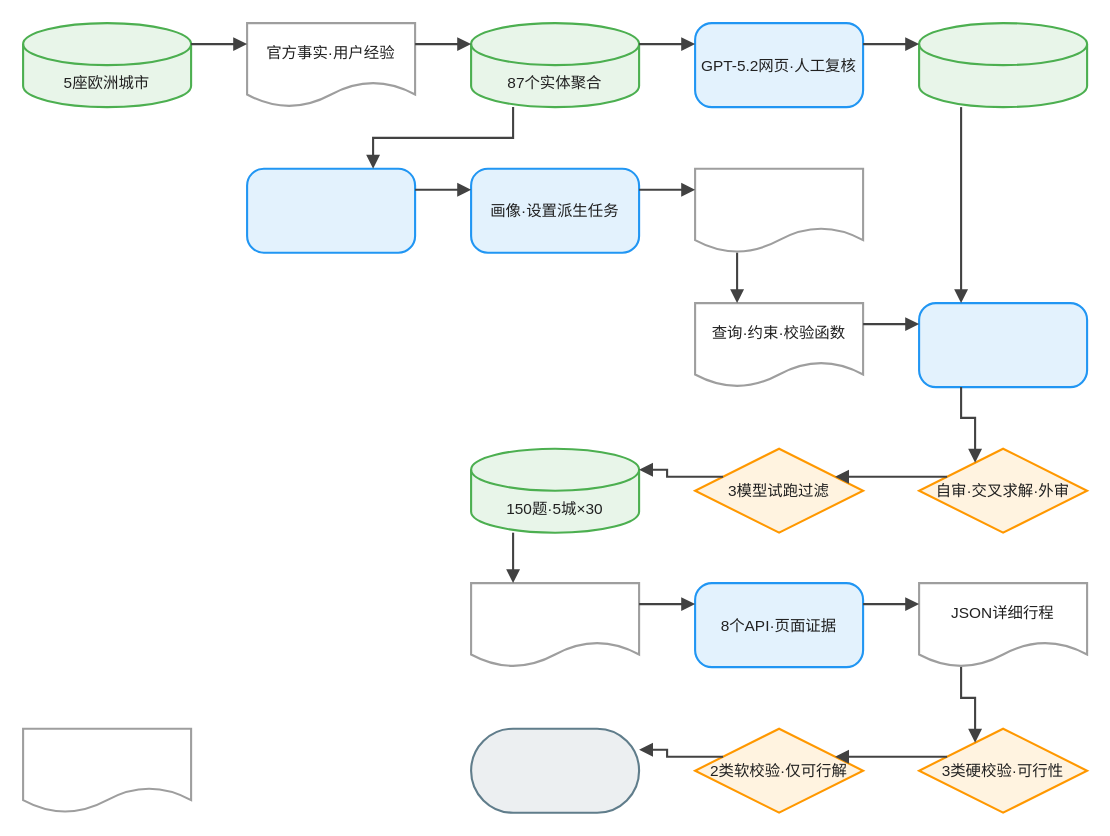
Some shapes in this 1110 by 836 pixel diagram are drawn without their labels. Each missing label, with the box of its shape:
2,003页Webscape: (917, 21, 1088, 108)
三指标汇总: (469, 727, 640, 813)
人工参考行程: (693, 167, 864, 253)
仅公开静态网页: (21, 727, 192, 813)
余票·时段·时长调控: (917, 301, 1088, 388)
可行核心场景: (245, 167, 416, 253)
查询+提示·最多30调用: (469, 581, 640, 668)
